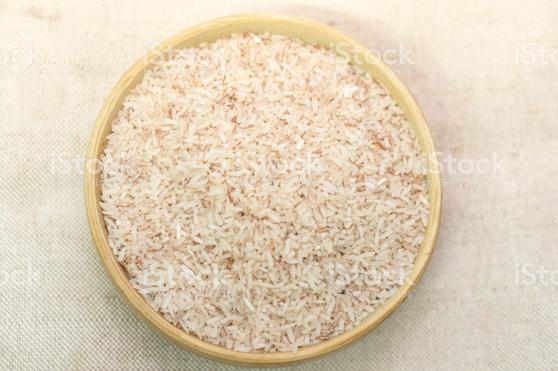rice: (129, 59, 405, 324)
